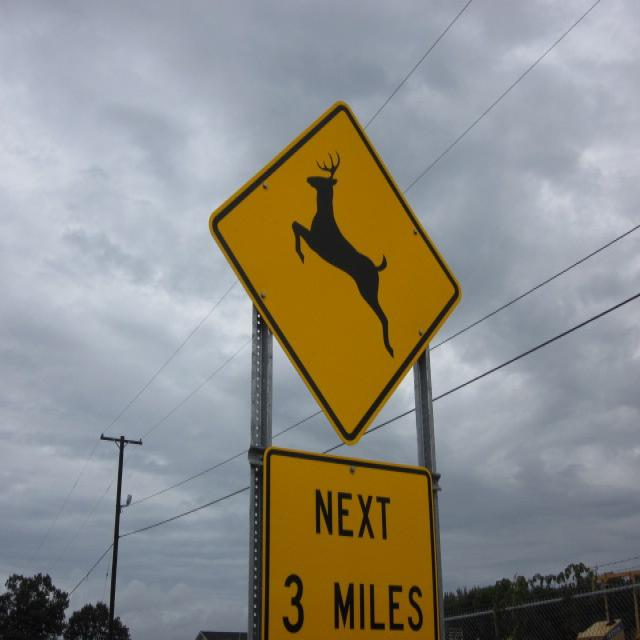warning: (206, 86, 460, 448), (253, 448, 445, 640)
